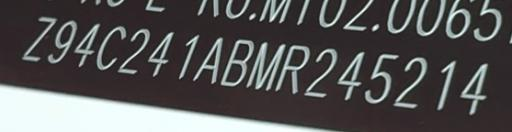letter: (246, 40, 288, 92), (364, 49, 400, 105), (392, 55, 428, 109), (21, 10, 57, 63), (218, 38, 256, 88), (274, 42, 310, 94), (304, 47, 338, 97), (118, 27, 152, 76), (459, 62, 489, 117), (190, 35, 224, 83), (334, 50, 366, 99), (46, 18, 78, 65), (72, 21, 102, 70), (96, 22, 126, 70), (147, 30, 175, 77), (176, 32, 200, 80), (435, 59, 457, 111)
